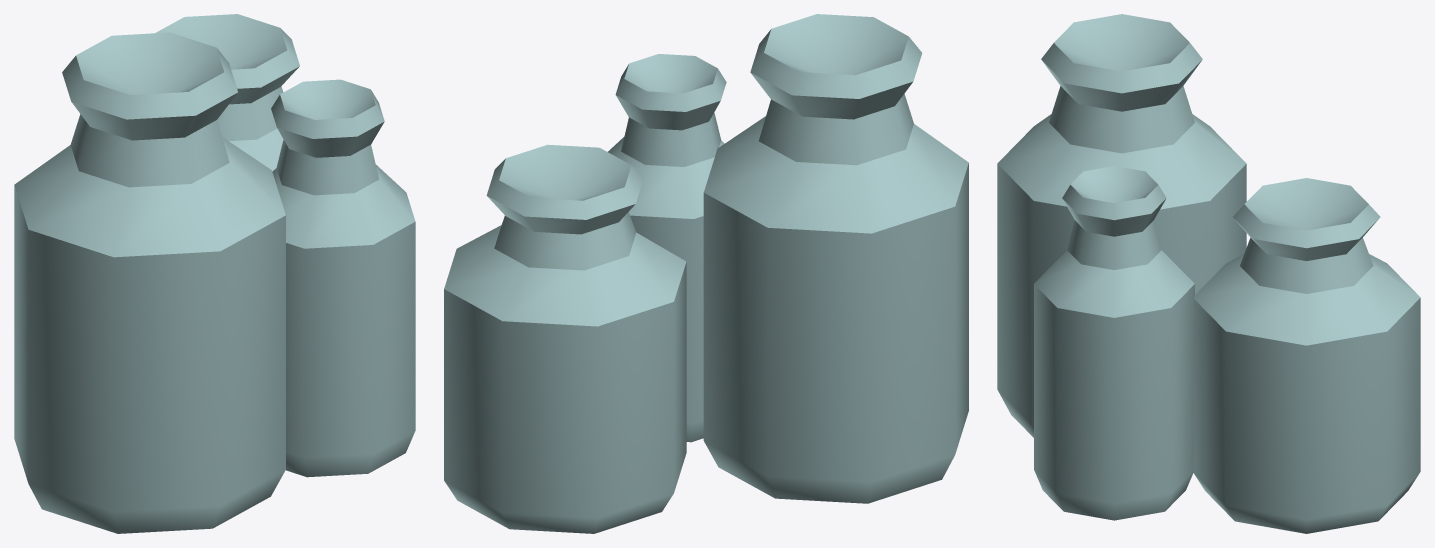
File: waterbottle.fbx
The picture shows the model from 3 angles, left to right: view 1: azimuth 30°, elevation 25°; view 2: azimuth 150°, elevation 25°; view 3: azimuth 270°, elevation 25°; orthographic projection. The views are drawn at different scales.
Visible parts, largest first — view 1: polySurface23; view 2: polySurface23; view 3: polySurface23.
Boxes of the visible parts, x1,y1,x2,y2 form: polySurface23: (14,14,415,533); polySurface23: (444,14,968,533); polySurface23: (997,14,1420,533).
Size of the model in its own units: 3 by 2.96 by 3.05.
